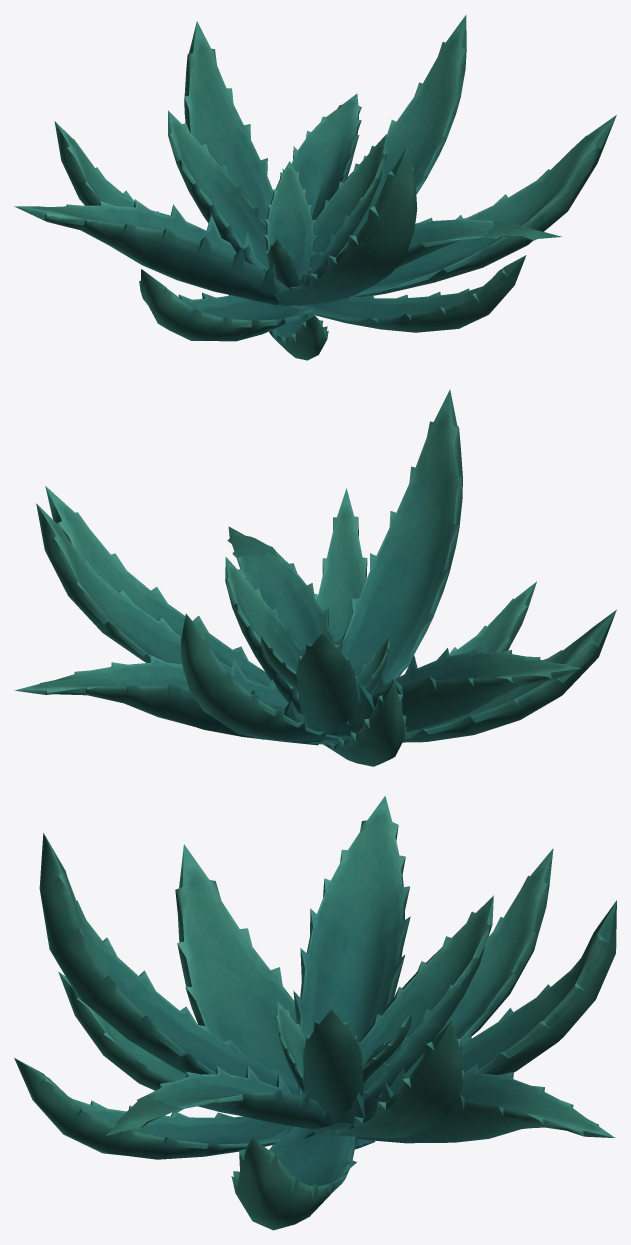
The model's file is DE_Cactus_06.fbx.
3 renders of one model, top to bottom at view 1: azimuth 30°, elevation 25°; view 2: azimuth 150°, elevation 25°; view 3: azimuth 270°, elevation 25°, orthographic. The views are drawn at different scales.
Parts seen in each view (by area): view 1: DE_Cactus_06; view 2: DE_Cactus_06; view 3: DE_Cactus_06.
Boxes of the visible parts, x1,y1,x2,y2 form: DE_Cactus_06: [14, 15, 616, 360]; DE_Cactus_06: [14, 389, 616, 766]; DE_Cactus_06: [14, 796, 616, 1230].
Size of the model in its own units: 5.71 by 2.39 by 4.3.
